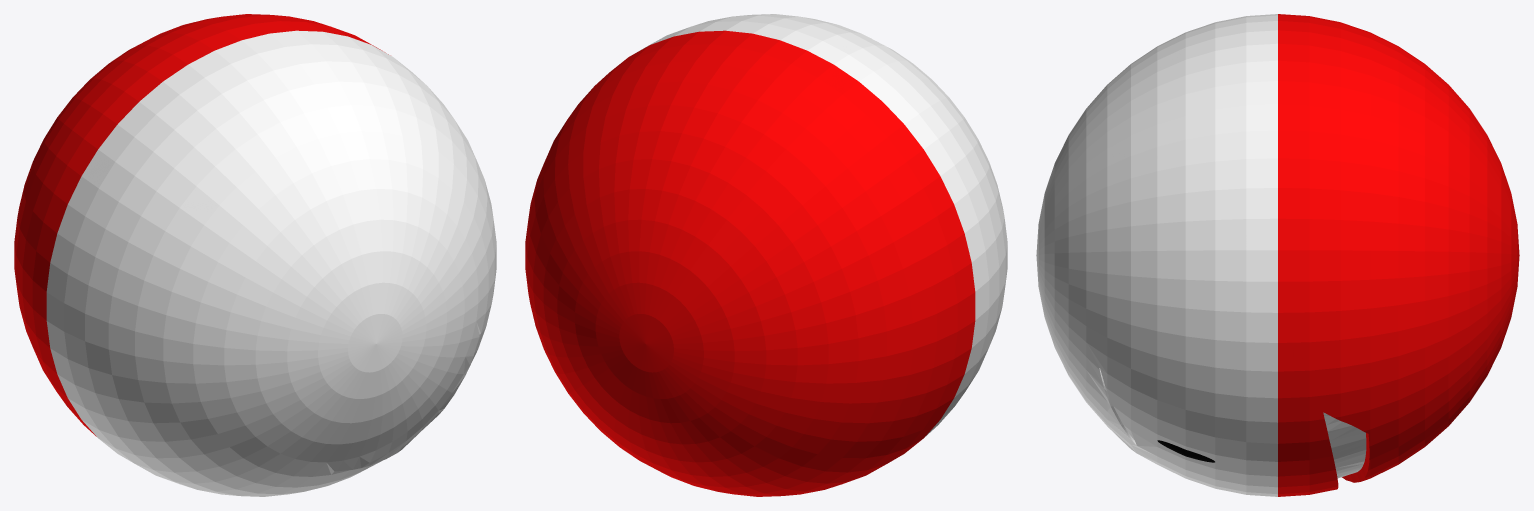
3 views of the same model, side by side, from view 1: azimuth 30°, elevation 25°; view 2: azimuth 150°, elevation 25°; view 3: azimuth 270°, elevation 25° (orthographic).
Parts seen in each view (by area): view 1: electrode; view 2: electrode; view 3: electrode.
Boxes of the visible parts, box(x1,y1,x2,y2) form: electrode: box(14, 14, 496, 496); electrode: box(525, 14, 1007, 496); electrode: box(1036, 14, 1519, 496).
Bounding box in the file's own units: 47.9 × 47.9 × 48.
